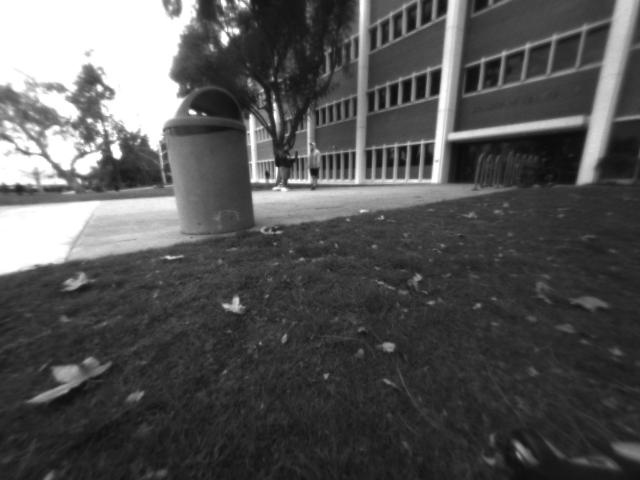trashcan: (153, 84, 260, 237)
